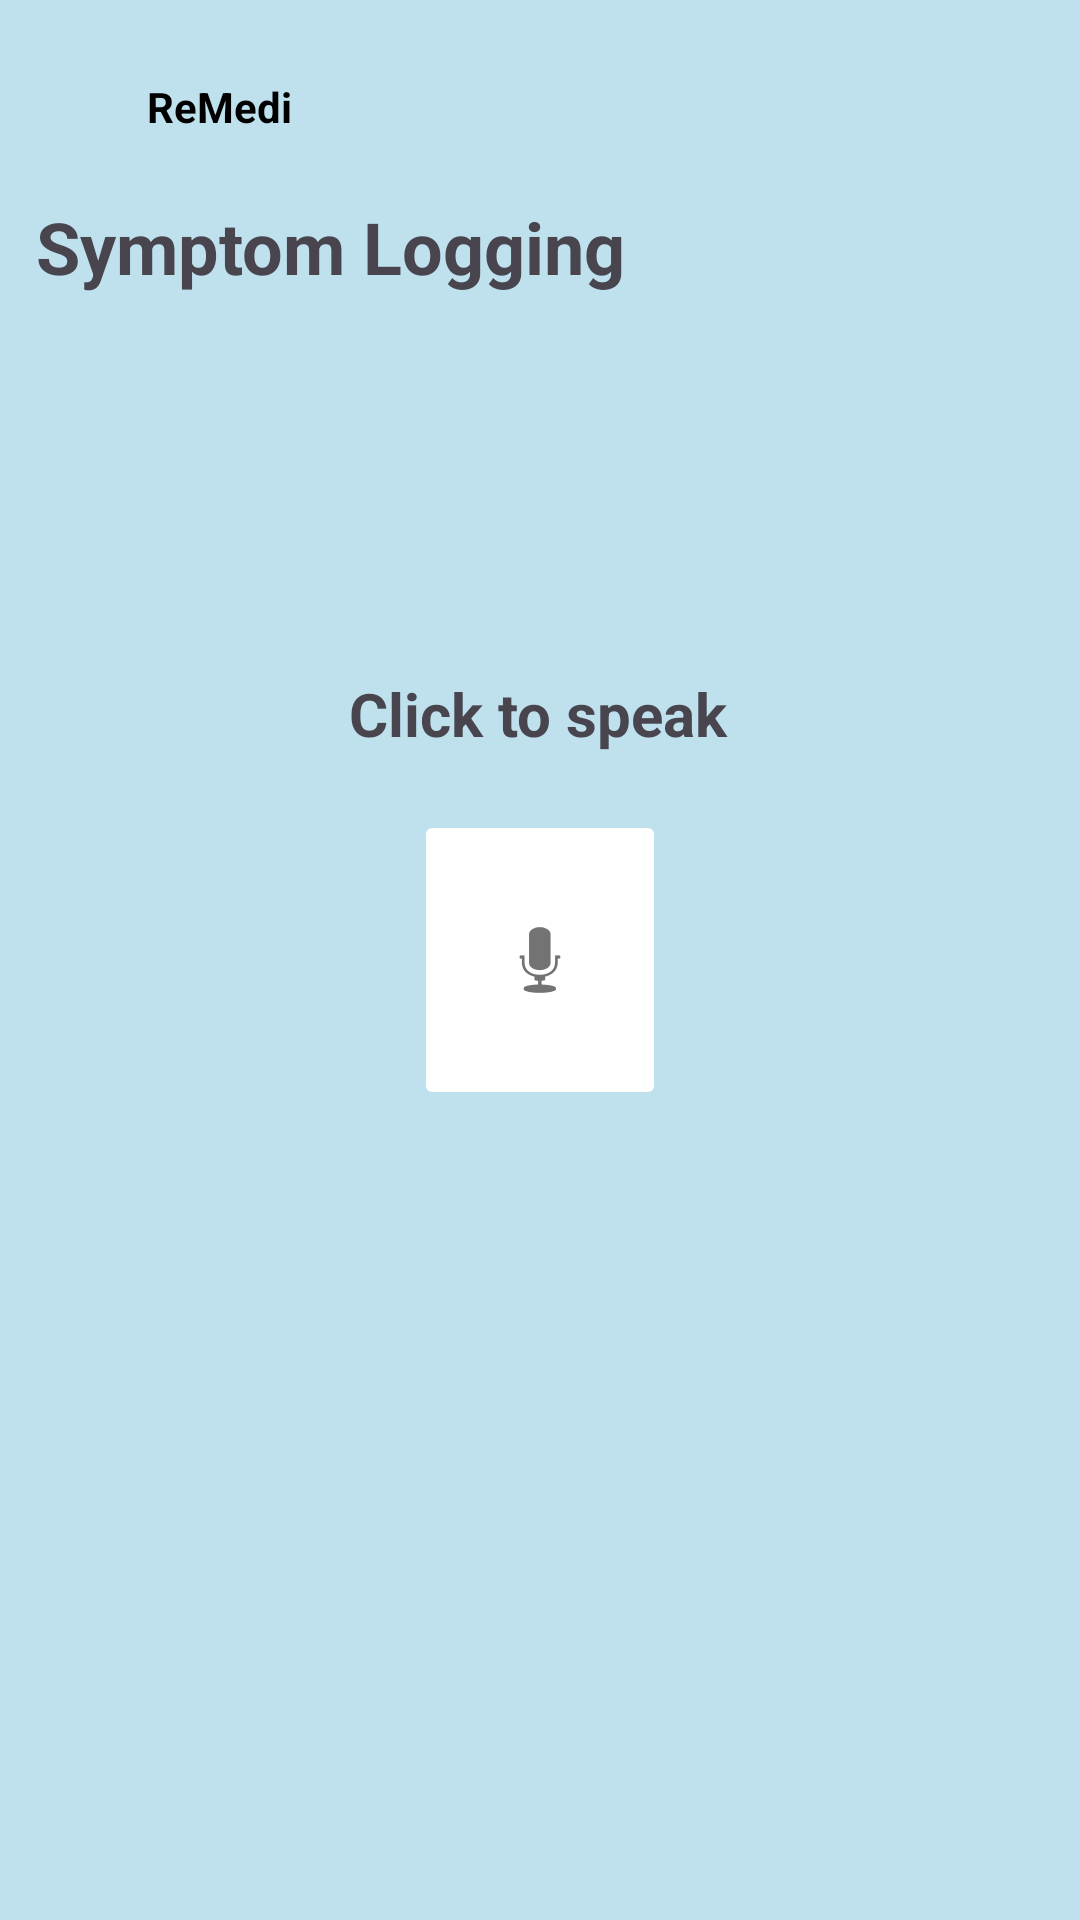

Icons on this 1080*1920 Android screen, each with the point to tap as (x,y):
speak now: (540,960)
